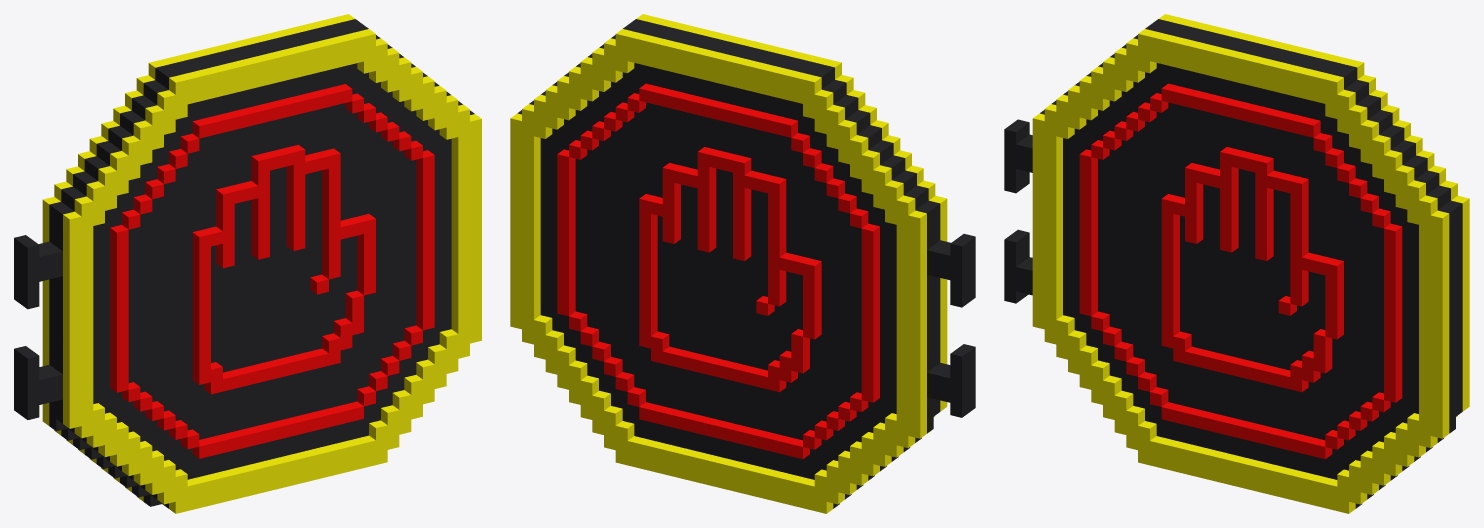
File: Signborad_004.obj
3 renders of one model, left to right at view 1: azimuth 30°, elevation 25°; view 2: azimuth 150°, elevation 25°; view 3: azimuth 330°, elevation 25°, orthographic.
Size of the model in its own units: 3.8 by 3.5 by 0.4.
1 material, 1 textured.
